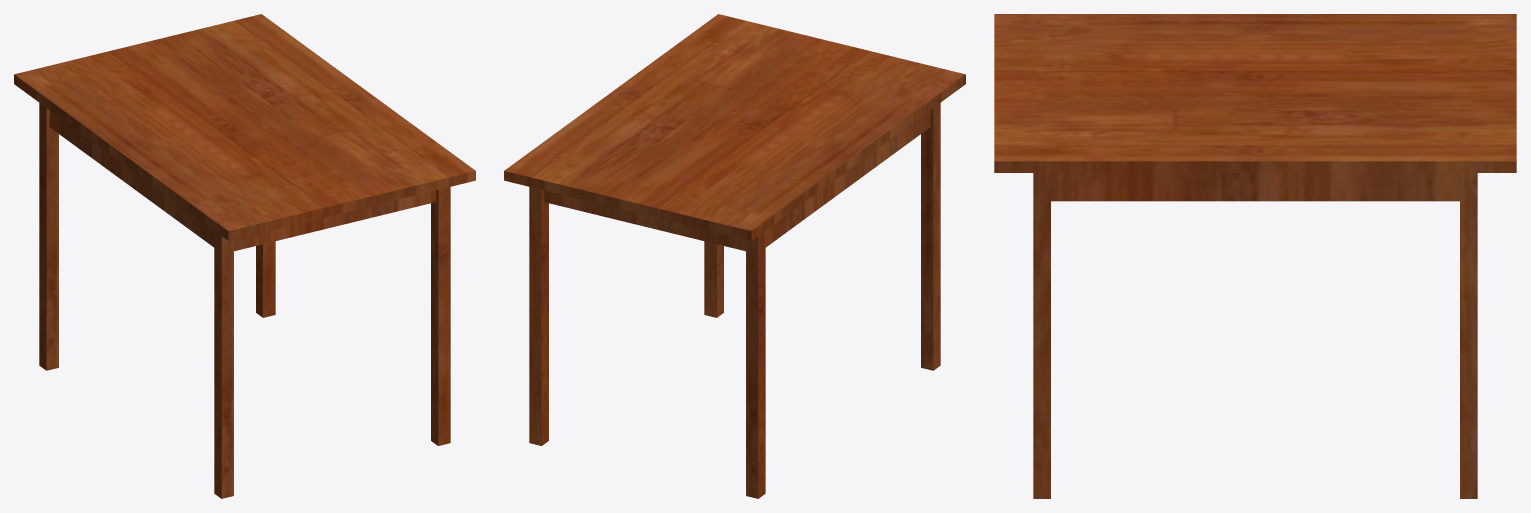
File: table.dae
3 renders of one model, left to right at view 1: azimuth 30°, elevation 25°; view 2: azimuth 150°, elevation 25°; view 3: azimuth 270°, elevation 25°, orthographic. The views are drawn at different scales.
Parts seen in each view (by area): view 1: Group1; view 2: Group1; view 3: Group1.
Boxes of the visible parts, x1,y1,x2,y2 form: Group1: (14, 14, 475, 498); Group1: (504, 14, 965, 498); Group1: (994, 14, 1516, 498).
Bounding box in the file's own units: 20 × 30 × 21.75.
1 material, 1 textured.
